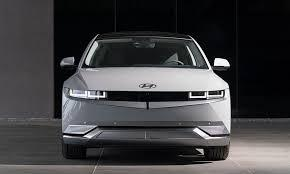hyundai: (136, 80, 163, 90)
